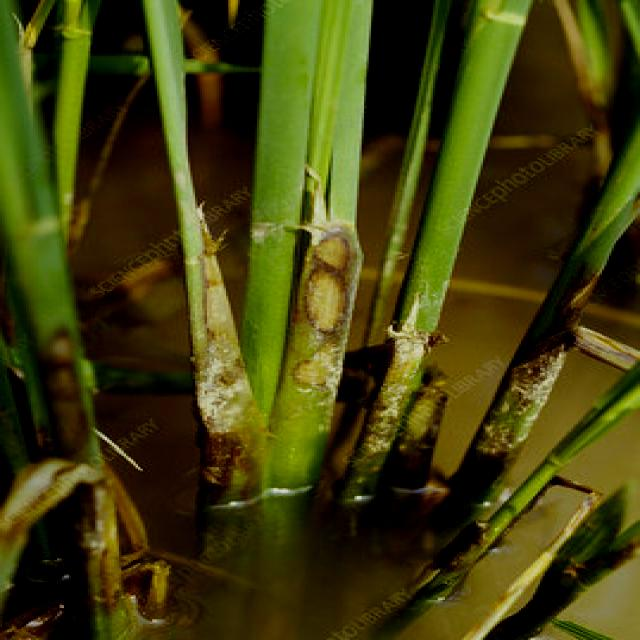Bacterial_Leaf_Blight: (291, 230, 351, 390), (195, 223, 250, 390)
